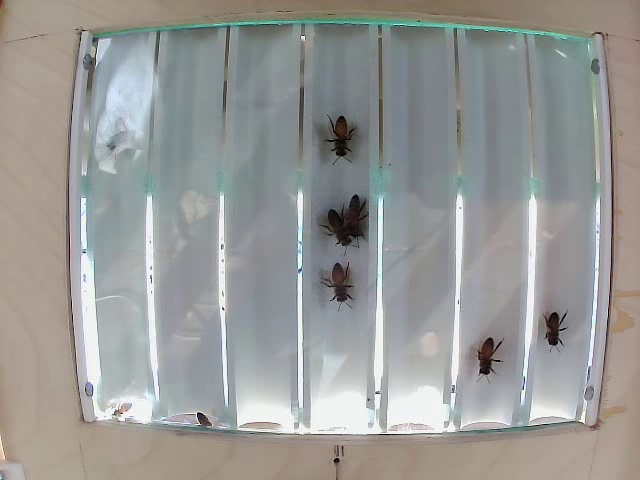bee: (322, 109, 357, 159), (341, 194, 374, 247), (319, 211, 351, 251), (327, 265, 354, 301), (482, 332, 503, 378), (548, 308, 564, 353)
